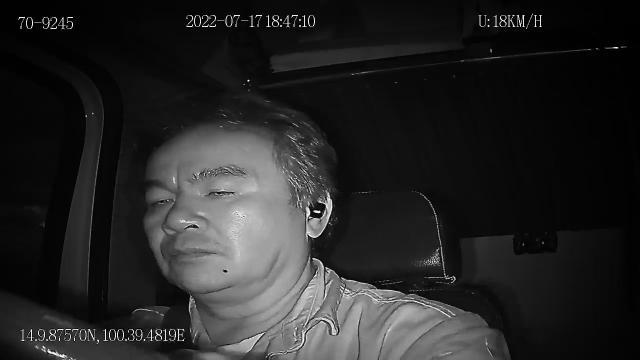SafeDriving: (198, 178, 245, 205)
Seatbelt: (156, 304, 198, 354)
